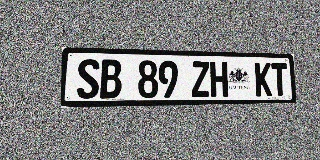8: (138, 60, 158, 98)
9: (159, 60, 178, 98)
B: (100, 59, 121, 98)
H: (210, 61, 228, 97)
K: (255, 62, 272, 96)
S: (77, 59, 99, 99)
T: (271, 63, 288, 96)
Z: (191, 61, 210, 97)
